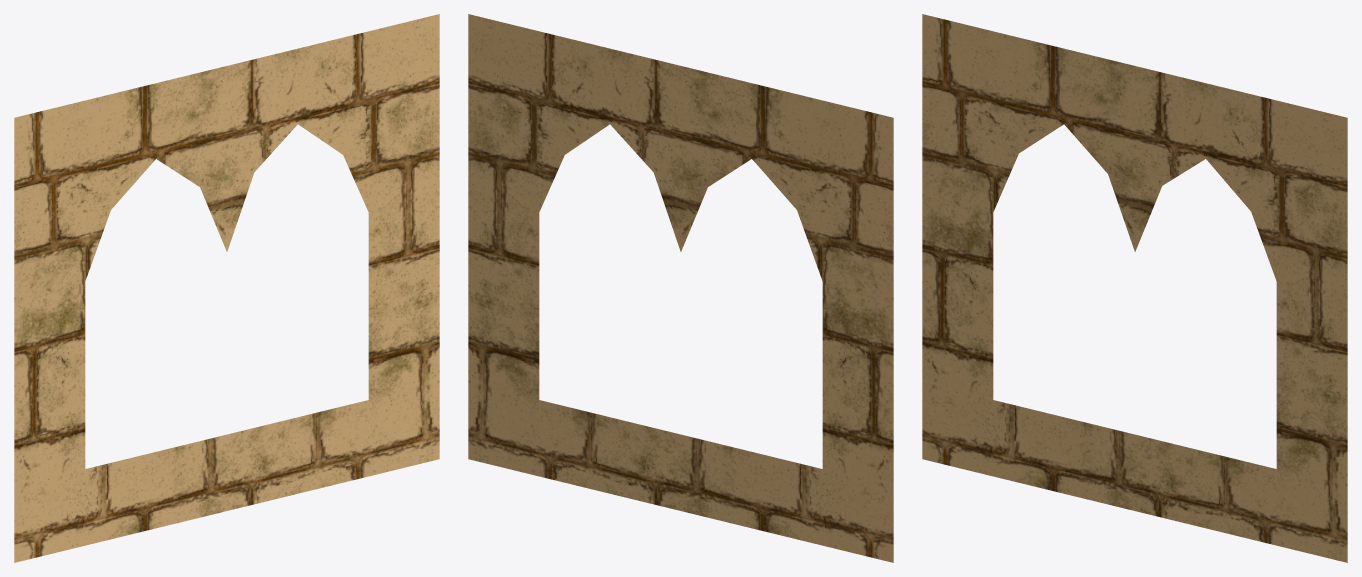
File: SM_paredVentana2.fbx
3 renders of one model, left to right at view 1: azimuth 30°, elevation 25°; view 2: azimuth 150°, elevation 25°; view 3: azimuth 330°, elevation 25°, orthographic.
Parts seen in each view (by area): view 1: SM_ParedVentana2; view 2: SM_ParedVentana2; view 3: SM_ParedVentana2.
Boxes of the visible parts, x1=… form: SM_ParedVentana2: x1=14, y1=14, x2=439, y2=562; SM_ParedVentana2: x1=468, y1=14, x2=893, y2=562; SM_ParedVentana2: x1=922, y1=14, x2=1347, y2=562.
Size of the model in its own units: 300 by 300 by 5.93e-05.
